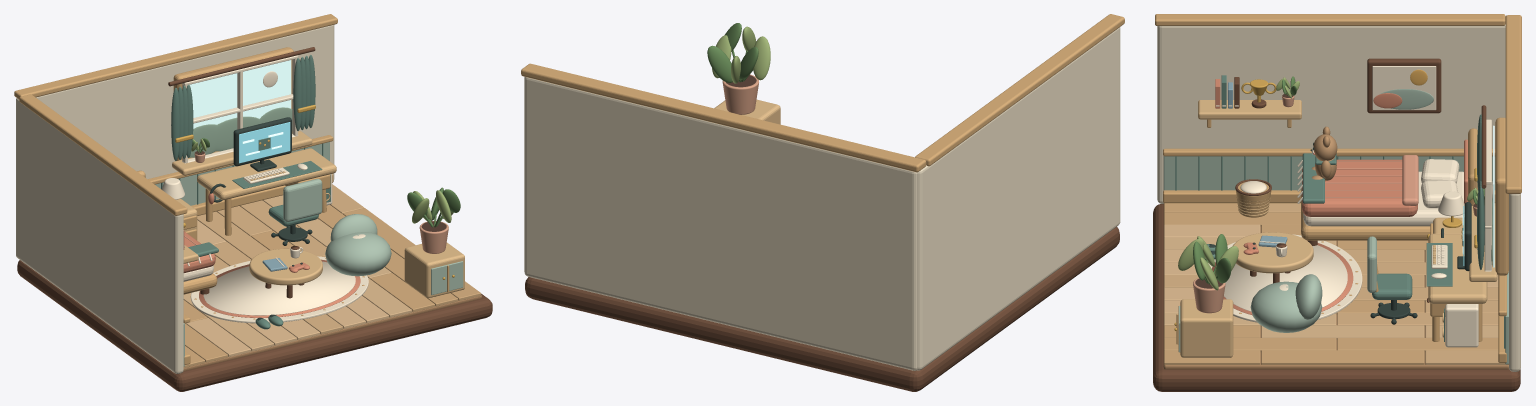
File: cozy_room.glb
3 views of the same model, side by side, from view 1: azimuth 30°, elevation 25°; view 2: azimuth 150°, elevation 25°; view 3: azimuth 270°, elevation 25° (orthographic). The views are drawn at different scales.
Visible parts, largest first — view 1: Left wall, Back wall, Rounded room plinth, Rug center, Back top wood cap, Window sky, Left top wood cap, Desk oak top, Beanbag, Entry cabinet, Round coffee table, Chair rounded back (+42 smaller); view 2: Back wall, Left wall, Rounded room plinth, Back top wood cap, Left top wood cap, Entry plant pot, Entry cabinet, Entry plant leaf.003, Entry plant leaf.004; view 3: Left wall, Rounded room plinth, Left sage lower wall, Duvet, Left top wood cap, Rug center, Back top wood cap, Entry cabinet, Oak floor board.031, Left chair rail, Beanbag, Round coffee table (+60 smaller).
Part boxes in pixels (x1,y1,x2,y2): Left wall: (16,98,183,373); Back wall: (36,25,334,181); Rounded room plinth: (17,260,492,391); Rug center: (203,261,355,315); Back top wood cap: (14,14,337,99); Window sky: (189,60,291,128); Left top wood cap: (19,94,187,215); Desk oak top: (197,148,336,200); Beanbag: (325,232,391,276); Entry cabinet: (404,242,464,298); Round coffee table: (249,248,322,285); Chair rounded back: (283,179,322,221); Back wall: (524,77,917,370); Left wall: (917,27,1120,370); Rounded room plinth: (525,227,1119,391); Back top wood cap: (521,63,926,172); Left top wood cap: (915,14,1124,166); Entry plant pot: (722,74,758,114); Entry cabinet: (714,99,780,124); Entry plant leaf.003: (707,45,732,82); Entry plant leaf.004: (753,36,770,80); Left wall: (1157,24,1505,203); Rounded room plinth: (1153,204,1520,391); Left sage lower wall: (1163,156,1495,190); Duvet: (1302,159,1417,216); Left top wood cap: (1155,14,1505,25); Rug center: (1224,245,1347,311); Back top wood cap: (1505,15,1521,193); Entry cabinet: (1180,299,1233,357); Oak floor board.031: (1261,350,1424,364); Left chair rail: (1163,148,1495,156); Beanbag: (1250,281,1322,332); Round coffee table: (1232,232,1313,273).
Size of the model in its own units: 6.81 by 3.76 by 6.07.
